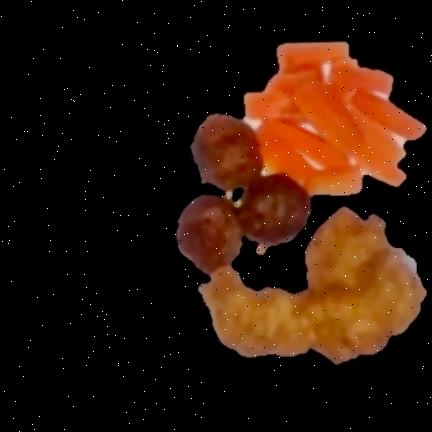carrot: (244, 41, 424, 196)
chicken: (199, 208, 425, 364)
meat: (176, 114, 310, 273), (190, 114, 262, 192)
